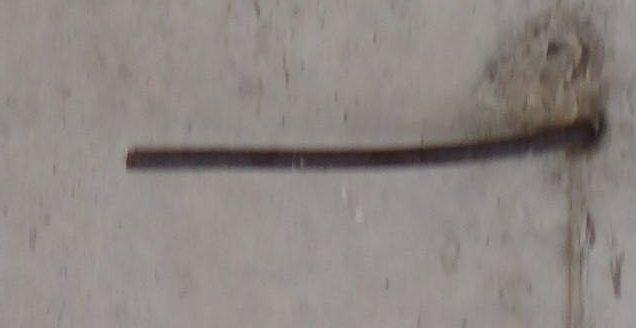Exposed reinforcement: (125, 118, 598, 170)
Spalling: (471, 8, 605, 111)
